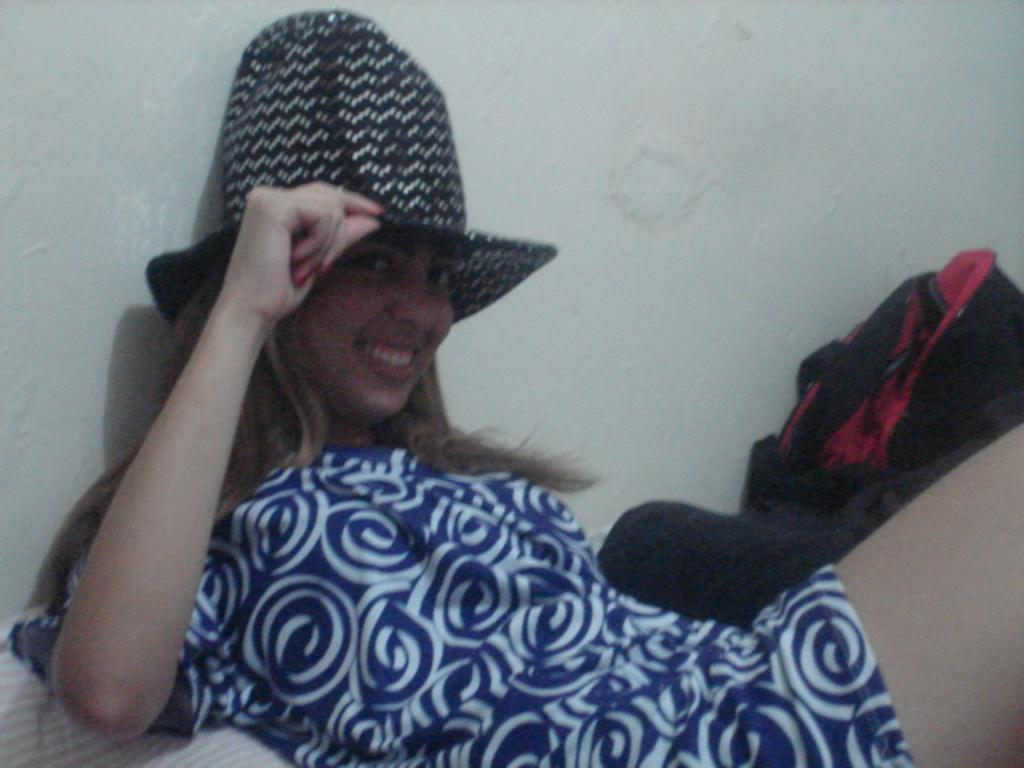Hat: (142, 6, 558, 323)
